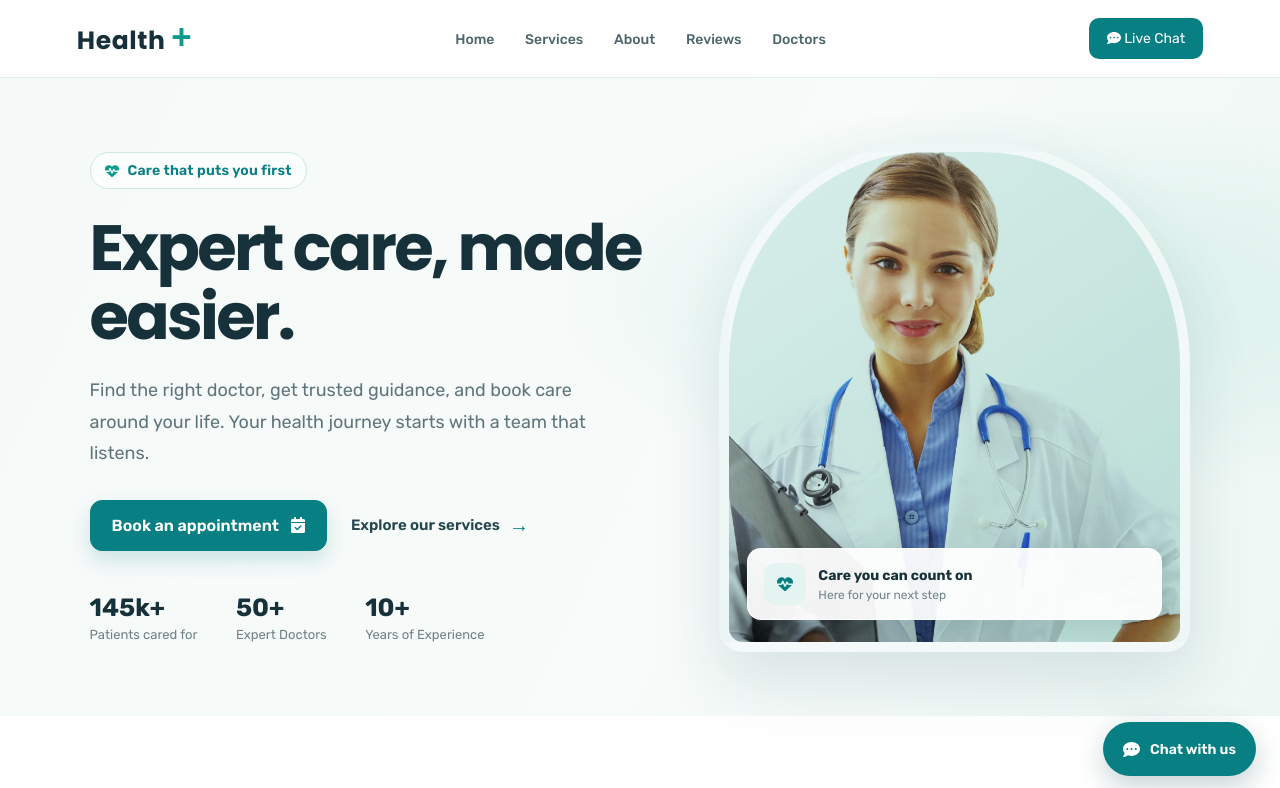
opens AI chat, sends a message, and displays the assistant reply
Click the button with aria-label "Open live chat".
click(1180, 749)  # box [1103, 722, 1256, 776]
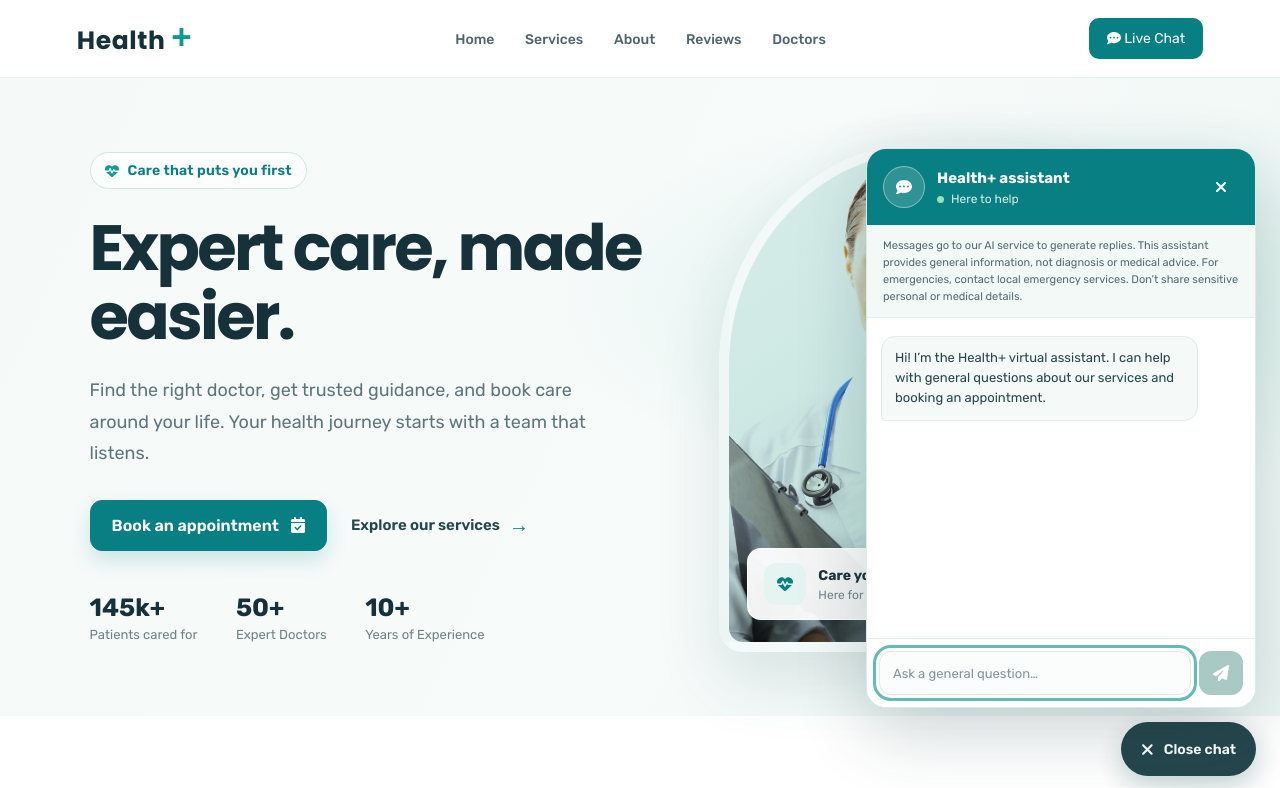
Now the dialog named "health plus ai live chat" is shown, box [866, 148, 1256, 708]
Now the text "not diagnosis or medical advice" is shown, box [883, 239, 1238, 303]
Type "How do I book?" into the field named "message the health+ assistant".
click(1035, 673); type("How do I book?")  # box [879, 651, 1191, 695]
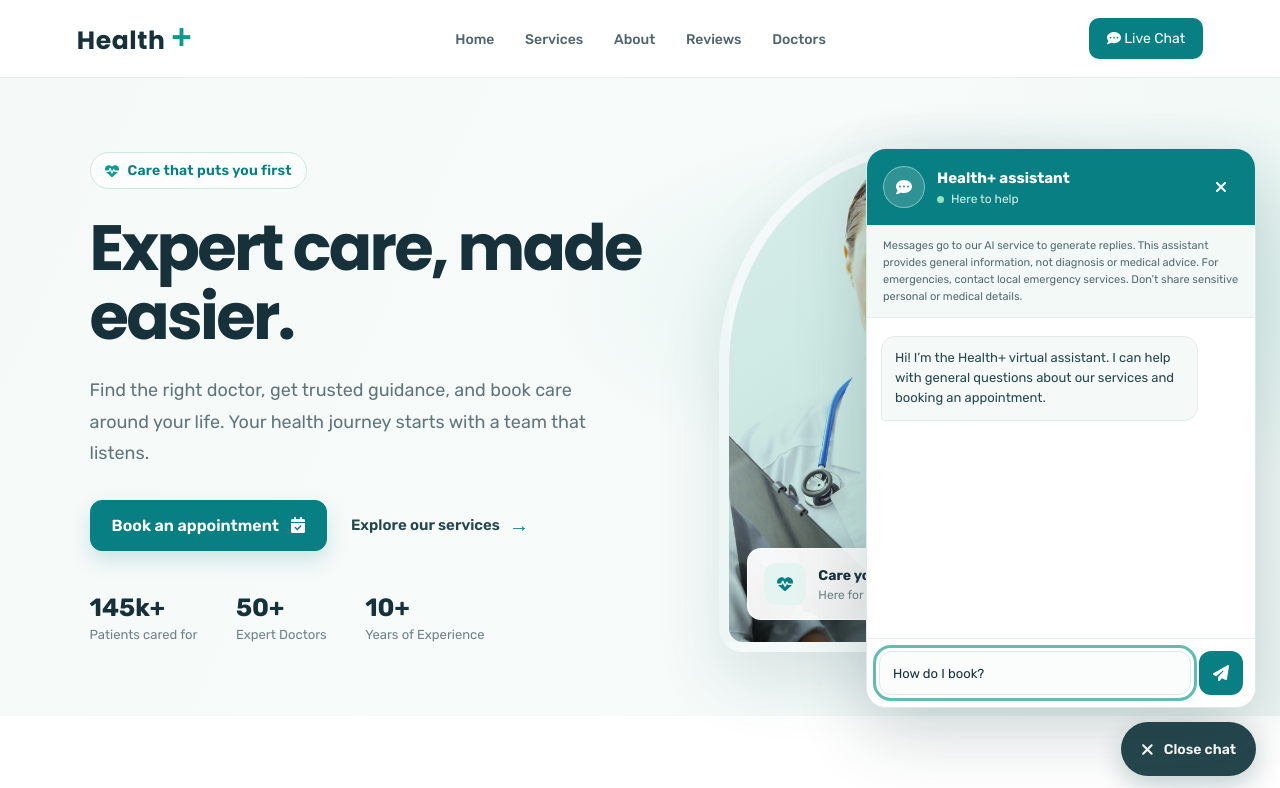
Click the button named "send message".
click(1221, 673)  # box [1199, 651, 1243, 695]
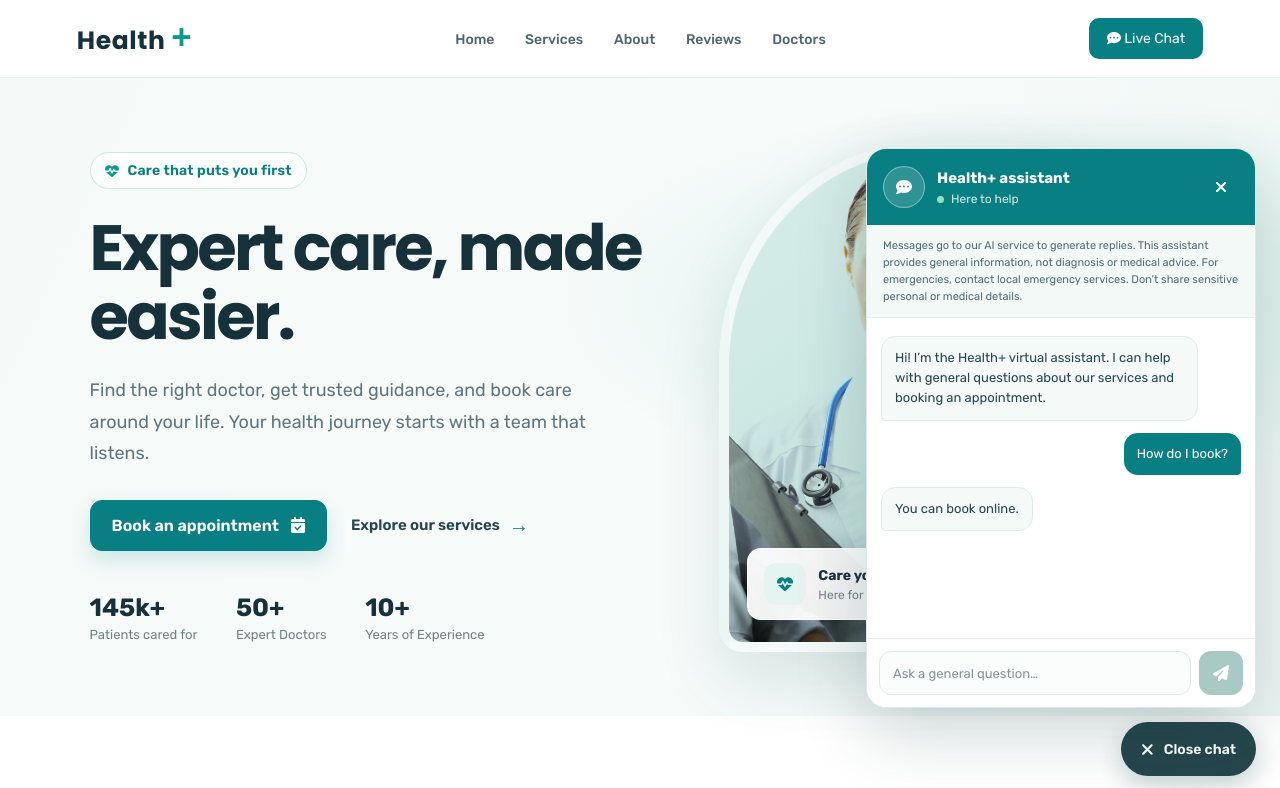
Now the text "You can book online." is shown, box [881, 487, 1033, 531]
